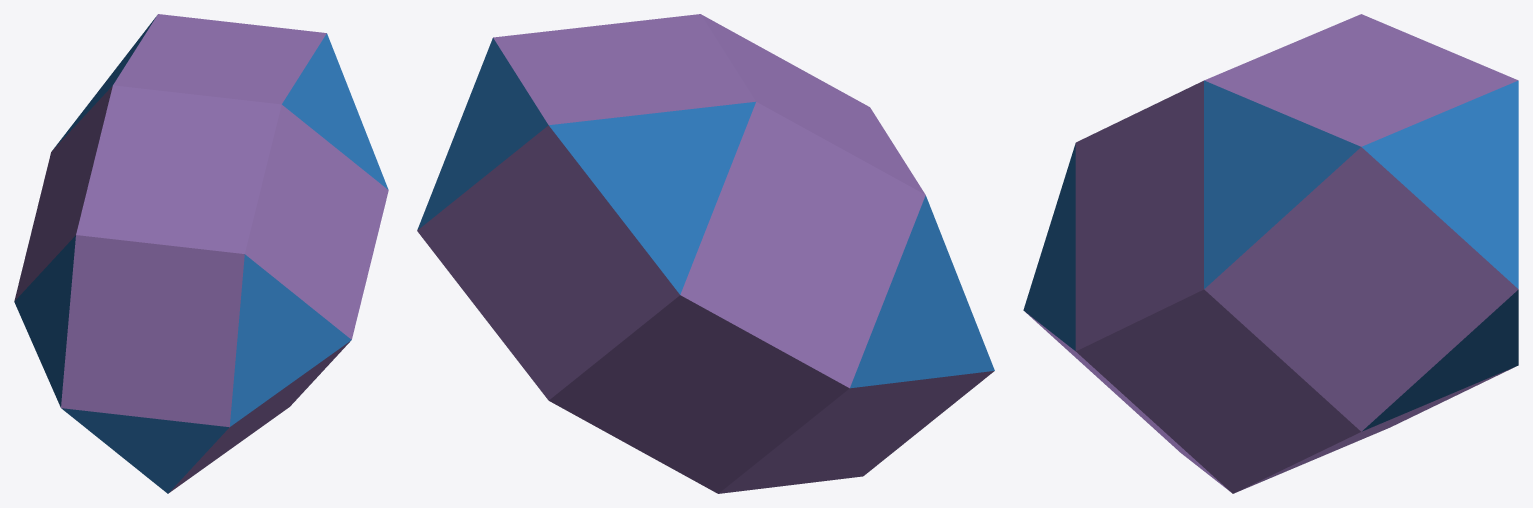
Rendered from J35.OrtobicupulaTriangularElongada.gltf.
3 renders of one model, left to right at view 1: azimuth 30°, elevation 25°; view 2: azimuth 150°, elevation 25°; view 3: azimuth 270°, elevation 25°, orthographic. The views are drawn at different scales.
Parts seen in each view (by area): view 1: J35.OrtobicupulaTriangularElongada; view 2: J35.OrtobicupulaTriangularElongada; view 3: J35.OrtobicupulaTriangularElongada.
Boxes of the visible parts, x1,y1,x2,y2 form: J35.OrtobicupulaTriangularElongada: (14,14,388,493); J35.OrtobicupulaTriangularElongada: (417,14,994,493); J35.OrtobicupulaTriangularElongada: (1023,14,1518,493).
Bounding box in the file's own units: 15.49 × 15.49 × 15.49.
